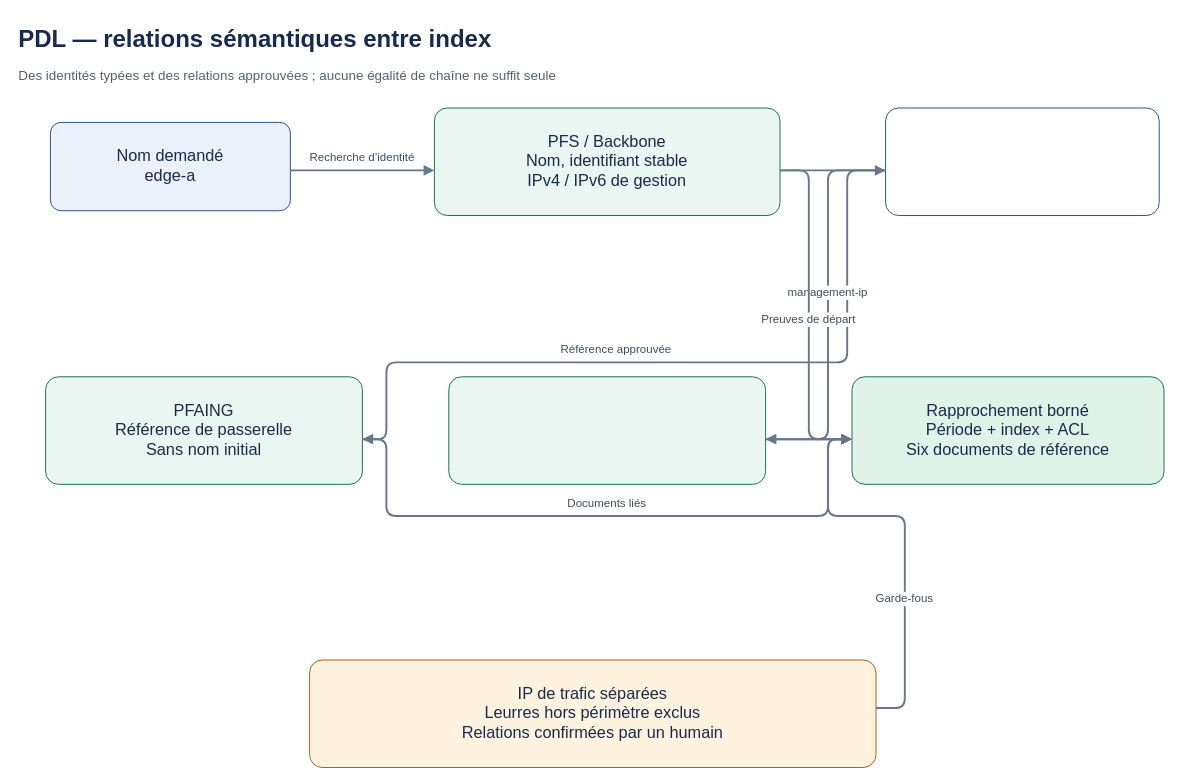
This 1194x784 diagram has some shape labels left out. Here are the shapes that lost their labels. From the top down, the centre of each, then its label:
At (x=1022, y=161): "Identité résolue Espaces de noms typés Portée demo-alpha".
At (x=607, y=430): "TACACS Destination de gestion Sans nom initial".
